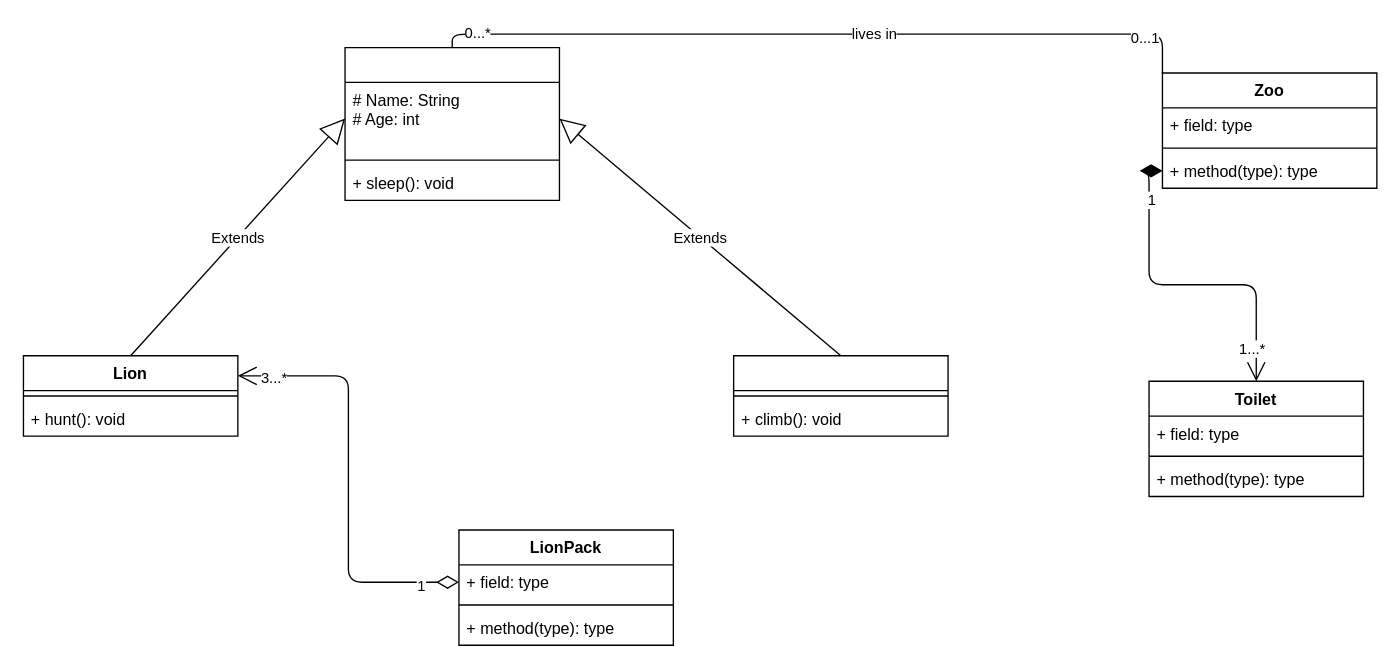
The diagram is 1400 pixels wide and 671 high, and some of its shapes have lost their labels. The box of each missing label's shape, as (x1, y1, x2, y2) in pixels:
Animal: (344, 46, 559, 200)
Monkey: (732, 354, 948, 436)
